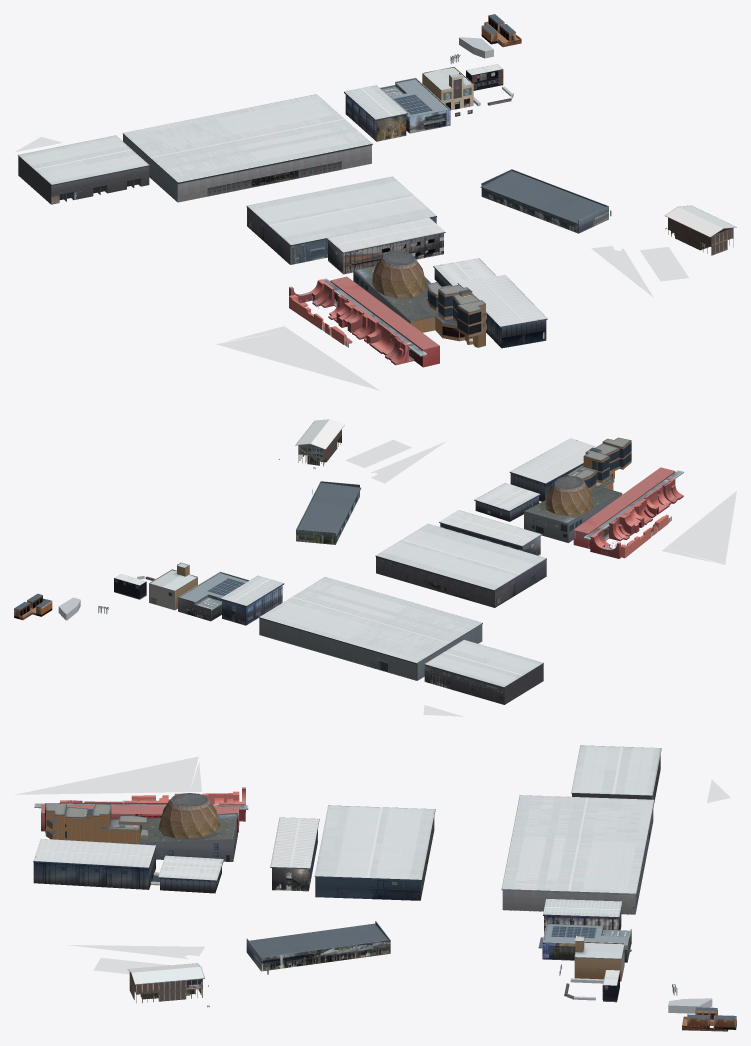
3 renders of one model, top to bottom at view 1: azimuth 30°, elevation 25°; view 2: azimuth 150°, elevation 25°; view 3: azimuth 270°, elevation 25°, orthographic. The views are drawn at different scales.
Visible parts, largest first — view 1: Buildings_建物パビリオン, Facilities_都市設備; view 2: Buildings_建物パビリオン, Facilities_都市設備; view 3: Buildings_建物パビリオン, Facilities_都市設備.
Boxes of the visible parts, left/top/right/bottom form: Buildings_建物パビリオン: left=14, top=64, right=736, bottom=390; Facilities_都市設備: left=289, top=14, right=667, bottom=347; Buildings_建物パビリオン: left=114, top=419, right=736, bottom=716; Facilities_都市設備: left=14, top=459, right=671, bottom=620; Buildings_建物パビリオン: left=14, top=745, right=730, bottom=1003; Facilities_都市設備: left=122, top=791, right=736, bottom=1031.
Size of the model in its own units: 211 by 17.47 by 235.
25 materials, 22 textured.
